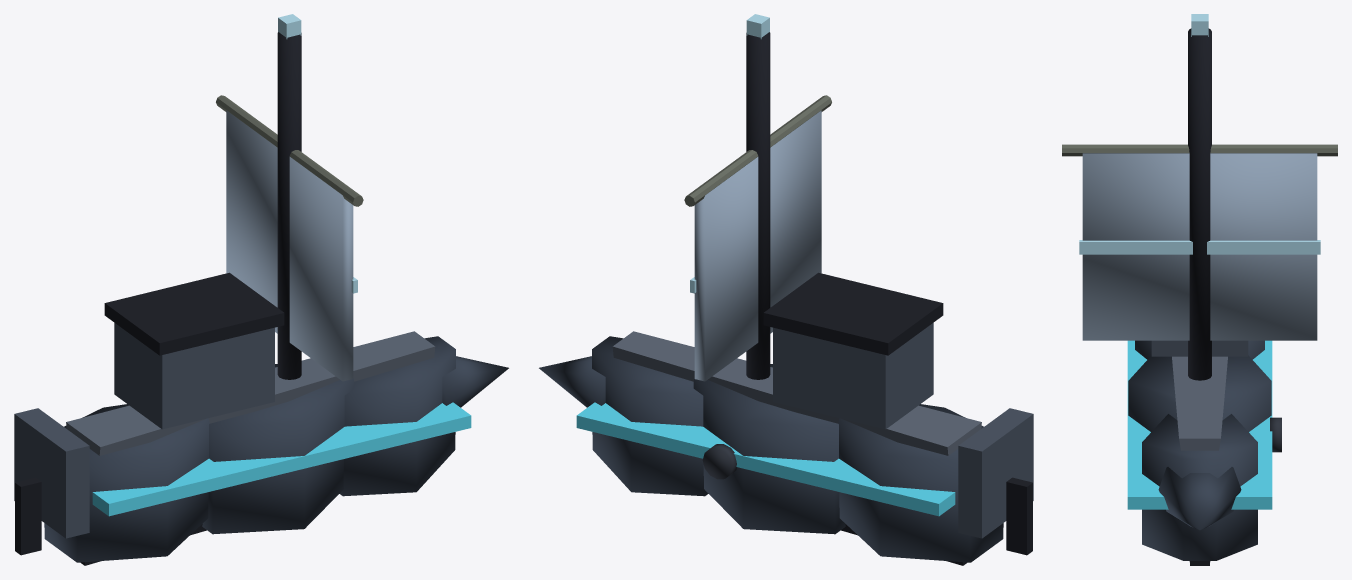
Rendered from Phantom_Sailboat.obj.
3 views of the same model, side by side, from view 1: azimuth 30°, elevation 25°; view 2: azimuth 150°, elevation 25°; view 3: azimuth 270°, elevation 25° (orthographic).
Visible parts, largest first — view 1: Phantom_Sailboat; view 2: Phantom_Sailboat; view 3: Phantom_Sailboat.
Boxes of the visible parts, x1,y1,x2,y2 form: Phantom_Sailboat: (14, 14, 508, 565); Phantom_Sailboat: (539, 14, 1033, 565); Phantom_Sailboat: (1062, 14, 1337, 565).
Bounding box in the file's own units: 1.65 × 1.57 × 0.8.
